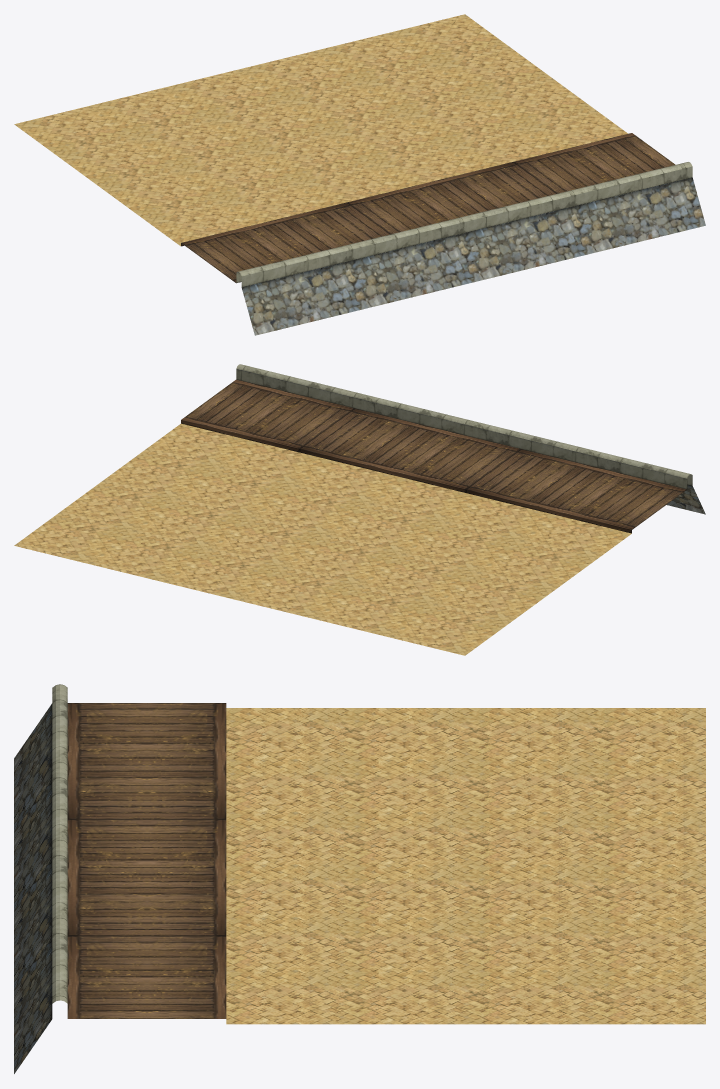
The model's file is Dock_1x1_NoSand.FBX.
3 renders of one model, top to bottom at view 1: azimuth 30°, elevation 25°; view 2: azimuth 150°, elevation 25°; view 3: azimuth 270°, elevation 25°, orthographic. The views are drawn at different scales.
Parts seen in each view (by area): view 1: Dock_1x1_NoSand; view 2: Dock_1x1_NoSand; view 3: Dock_1x1_NoSand.
Boxes of the visible parts, x1=… form: Dock_1x1_NoSand: x1=14, y1=14, x2=705, y2=335; Dock_1x1_NoSand: x1=14, y1=364, x2=705, y2=655; Dock_1x1_NoSand: x1=14, y1=684, x2=705, y2=1073.
Size of the model in its own units: 28.88 by 26.72 by 3.16.
